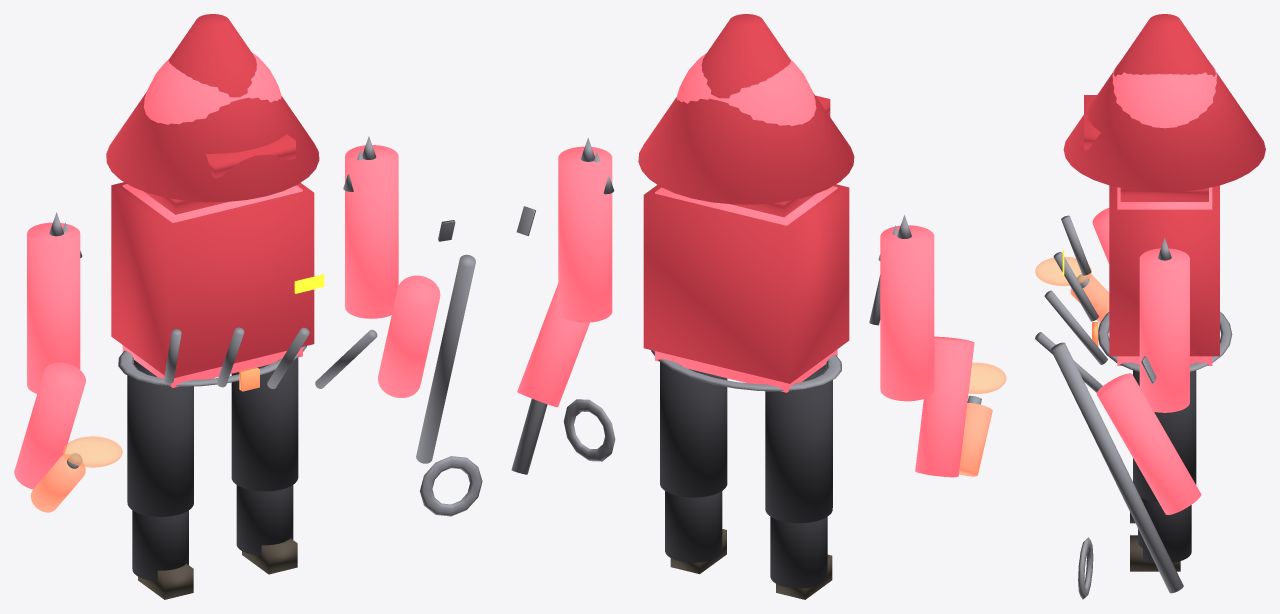
Rendered from jailbreaker.glb.
The picture shows the model from 3 angles, left to right: view 1: azimuth 30°, elevation 25°; view 2: azimuth 150°, elevation 25°; view 3: azimuth 270°, elevation 25°; orthographic projection. The views are drawn at different scales.
Visible parts, largest first — view 1: Jacket, Hood, Leg_L, RightArm, LeftArm, Leg_R, RightForearm, LeftForearm, Head, CrowbarShaft, LowerLeg_R, LowerLeg_L (+12 smaller); view 2: Jacket, Hood, LeftArm, RightArm, Leg_L, Leg_R, LeftForearm, Head, RightForearm, LowerLeg_R, LowerLeg_L, Torso (+6 smaller); view 3: Hood, Jacket, RightArm, RightForearm, Head, CrowbarShaft, Leg_R, LowerLeg_R, Torso, Belt, Collar, Chain_2 (+9 smaller).
Part boxes in pixels (left/top/right/bottom): Jacket: left=111, top=182, right=314, bottom=377; Hood: left=106, top=14, right=319, bottom=202; Leg_L: left=127, top=360, right=193, bottom=516; RightArm: left=345, top=145, right=398, bottom=318; LeftArm: left=27, top=222, right=80, bottom=393; Leg_R: left=231, top=357, right=298, bottom=491; RightForearm: left=378, top=275, right=440, bottom=397; LeftForearm: left=14, top=362, right=85, bottom=489; Head: left=143, top=53, right=281, bottom=124; CrowbarShaft: left=416, top=254, right=475, bottom=463; LowerLeg_R: left=236, top=485, right=293, bottom=555; LowerLeg_L: left=132, top=510, right=188, bottom=581; Jacket: left=643, top=184, right=849, bottom=383; Hood: left=638, top=14, right=854, bottom=204; LeftArm: left=880, top=225, right=934, bottom=401; RightArm: left=558, top=146, right=612, bottom=322; Leg_L: left=765, top=364, right=832, bottom=523; Leg_R: left=660, top=362, right=727, bottom=497; LeftForearm: left=915, top=336, right=974, bottom=477; Head: left=676, top=53, right=816, bottom=126; RightForearm: left=517, top=283, right=589, bottom=407; LowerLeg_R: left=665, top=491, right=722, bottom=562; LowerLeg_L: left=770, top=516, right=827, bottom=588; Torso: left=655, top=186, right=837, bottom=392; Hood: left=1063, top=14, right=1265, bottom=192; Jacket: left=1109, top=185, right=1219, bottom=356; RightArm: left=1139, top=248, right=1189, bottom=412; RightForearm: left=1096, top=373, right=1201, bottom=514; Head: left=1112, top=62, right=1216, bottom=128; CrowbarShaft: left=1051, top=342, right=1183, bottom=593; Leg_R: left=1133, top=370, right=1196, bottom=501; LowerLeg_R: left=1138, top=498, right=1191, bottom=562; Torso: left=1117, top=187, right=1212, bottom=365; Belt: left=1098, top=312, right=1232, bottom=371; Collar: left=1120, top=188, right=1208, bottom=201; Chain_2: left=1044, top=290, right=1107, bottom=364.
Size of the model in its own units: 1.51 by 1.82 by 0.7303.
